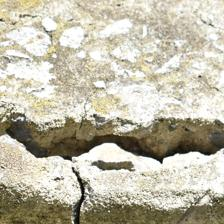Crack: (70, 0, 152, 102), (187, 0, 224, 56)
